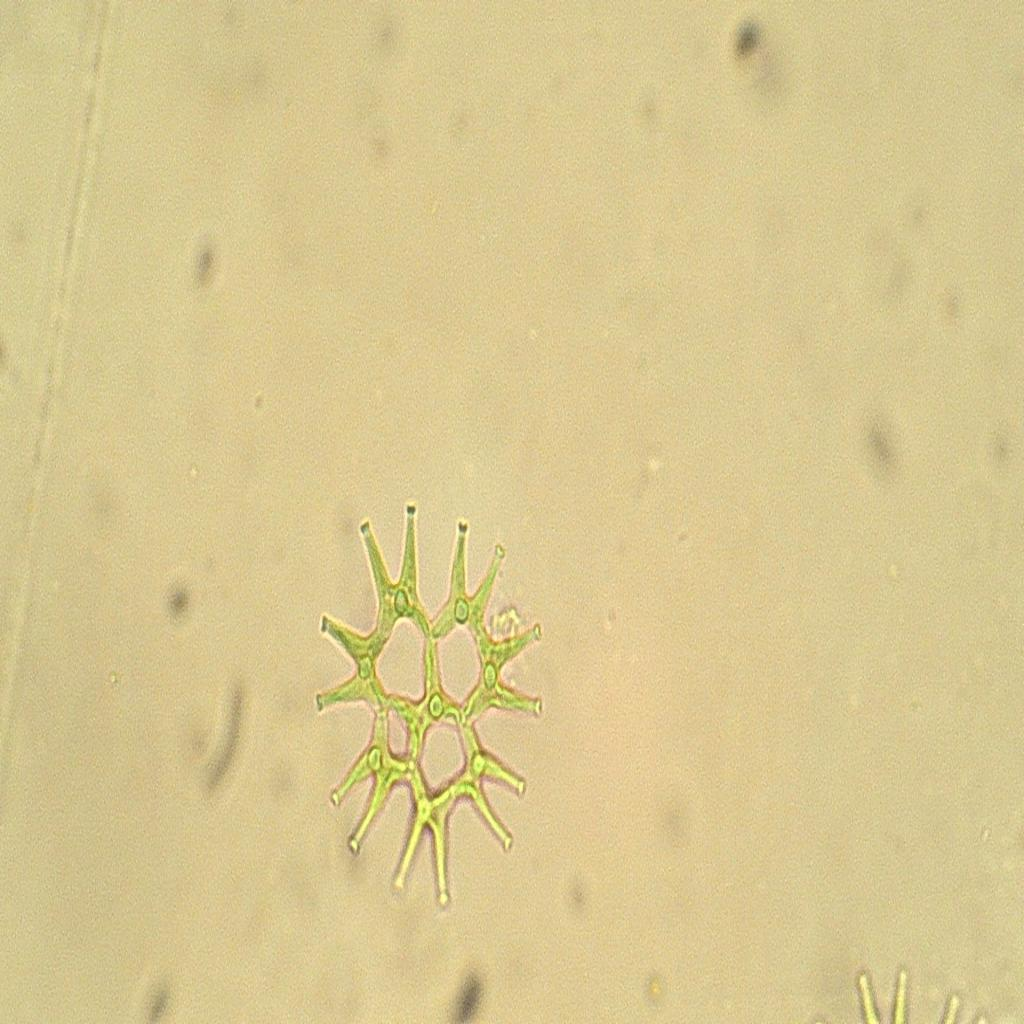Pediastrum_75T: (288, 469, 560, 937)
